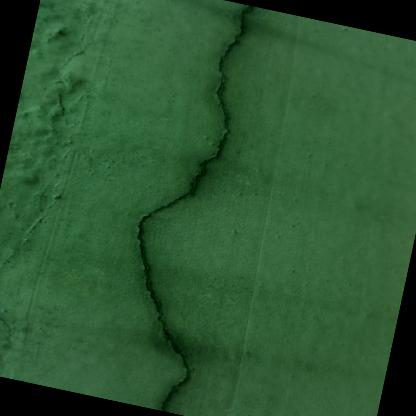crack: (136, 4, 253, 411)
